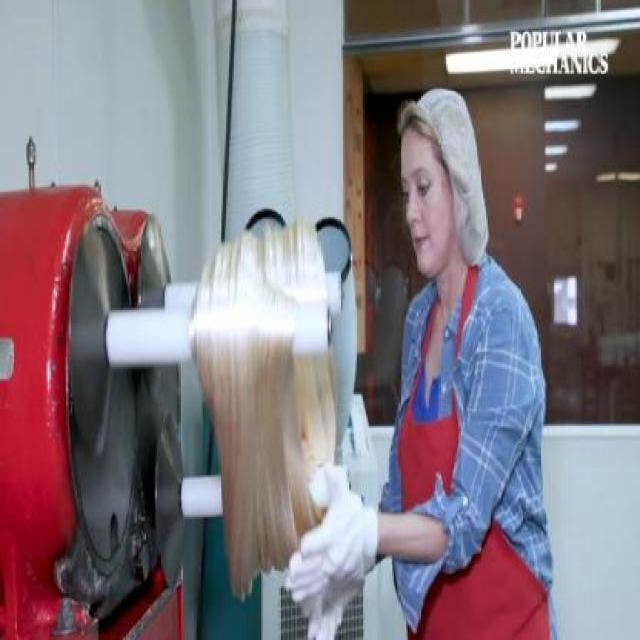gloved_hand: (291, 463, 386, 613)
